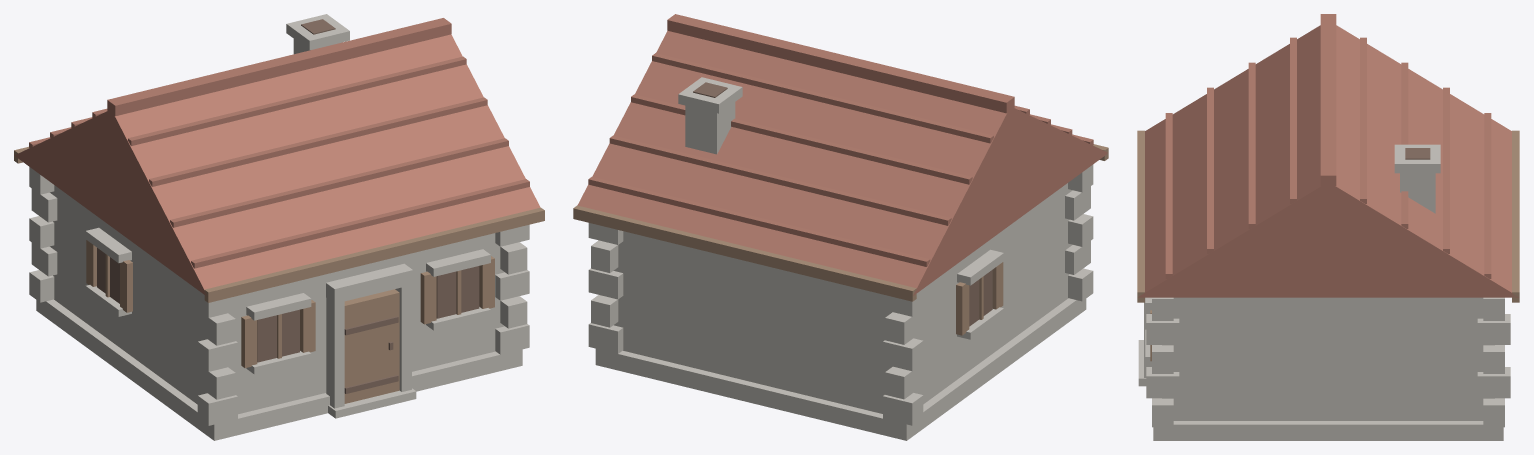
File: stone-house.glb
3 views of the same model, side by side, from view 1: azimuth 30°, elevation 25°; view 2: azimuth 150°, elevation 25°; view 3: azimuth 270°, elevation 25° (orthographic). The views are drawn at different scales.
Parts seen in each view (by area): view 1: stone-house_roof, stone-house_stone, stone-house_wood, stone-house_window; view 2: stone-house_roof, stone-house_stone, stone-house_wood, stone-house_window; view 3: stone-house_roof, stone-house_stone, stone-house_wood.
Boxes of the visible parts, left/top/right/bottom form: stone-house_roof: left=14, top=18, right=540, bottom=296; stone-house_stone: left=29, top=14, right=529, bottom=440; stone-house_wood: left=14, top=146, right=544, bottom=403; stone-house_window: left=97, top=19, right=479, bottom=393; stone-house_roof: left=577, top=14, right=1107, bottom=295; stone-house_stone: left=588, top=77, right=1093, bottom=440; stone-house_wood: left=573, top=144, right=1108, bottom=335; stone-house_window: left=693, top=82, right=992, bottom=326; stone-house_roof: left=1137, top=14, right=1519, bottom=297; stone-house_stone: left=1138, top=144, right=1510, bottom=440; stone-house_wood: left=1137, top=130, right=1519, bottom=361.
Size of the model in its own units: 2 by 1.57 by 2.
